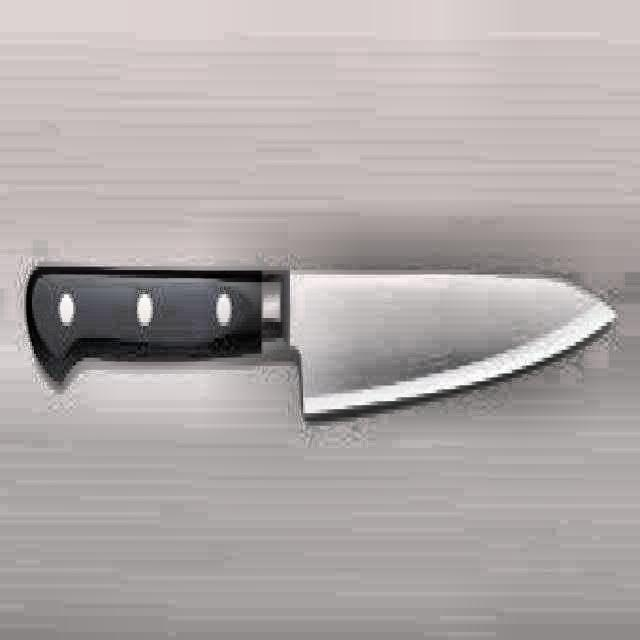knife: (24, 258, 619, 426)
